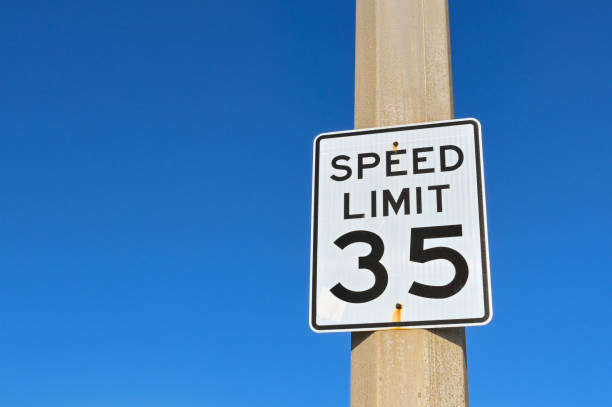SpeedLimitSign: (306, 116, 493, 331)
